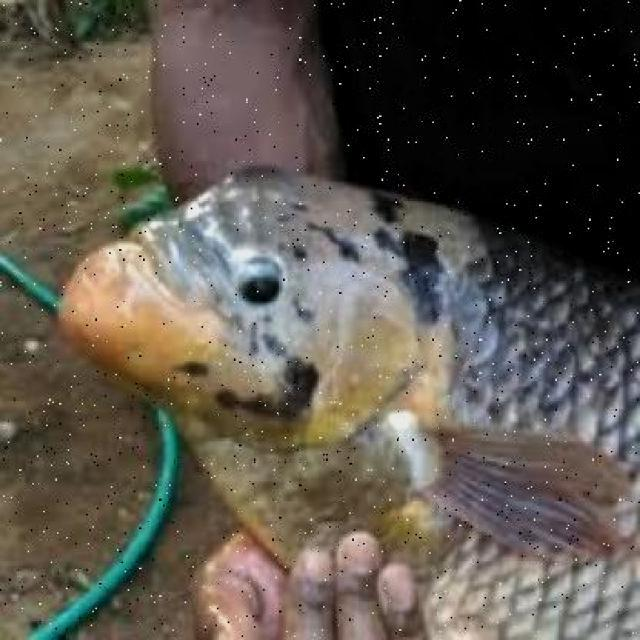gurame: (55, 176, 634, 639)
